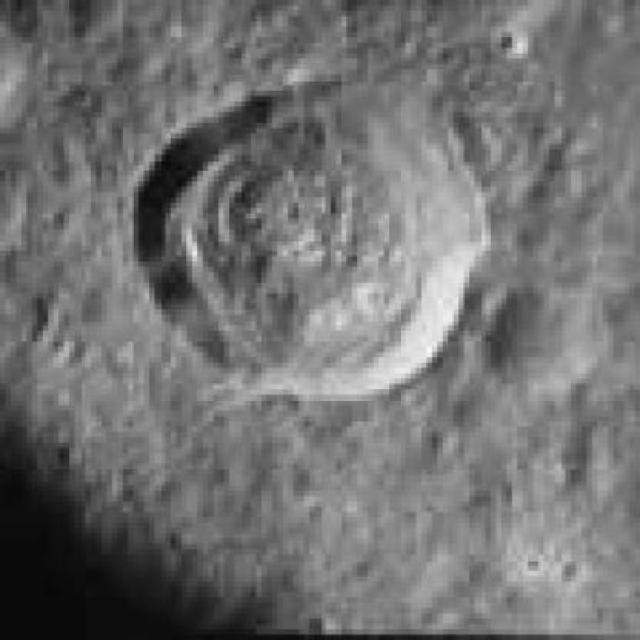crater: (127, 79, 479, 392)
